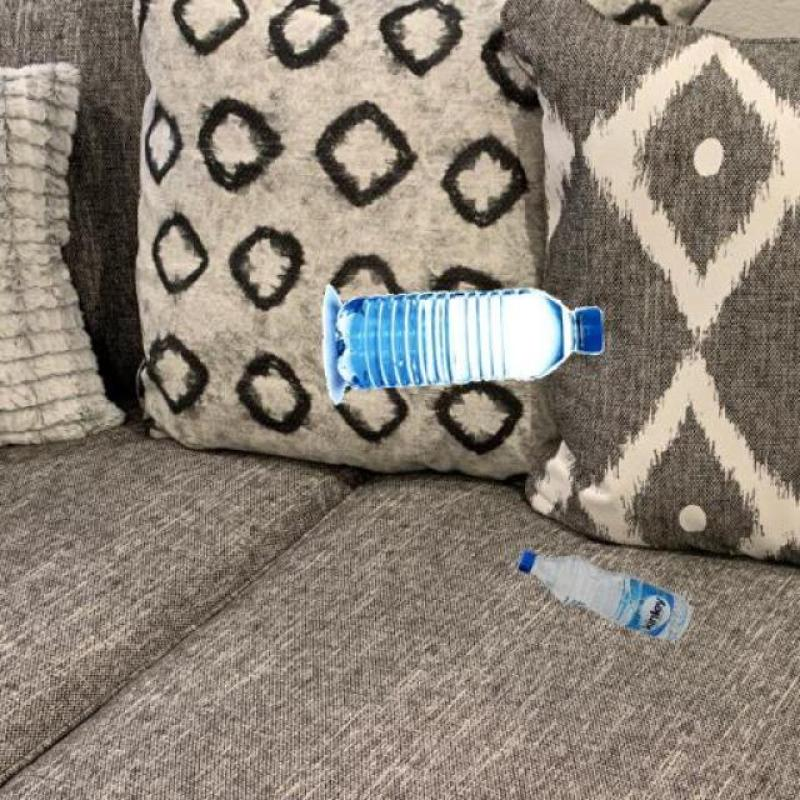botella: (336, 290, 606, 385), (518, 552, 692, 640)
